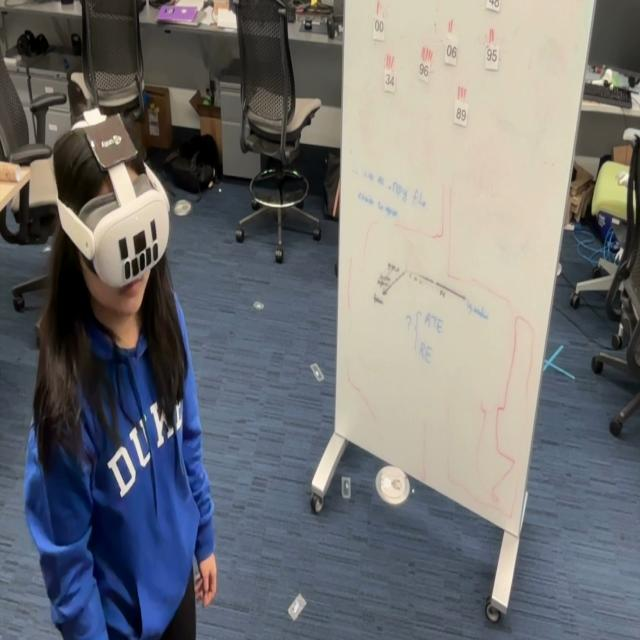UnityLogo: (83, 109, 139, 172)
